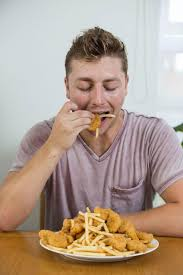eating: (51, 27, 168, 208)
